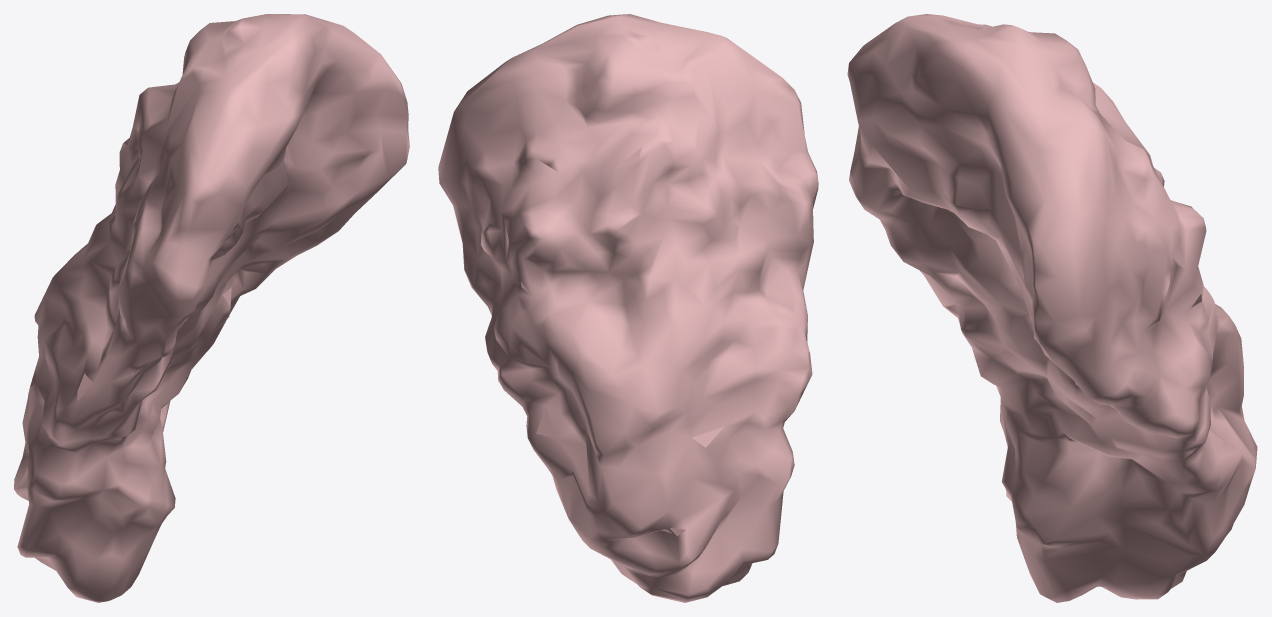
File: 3d-vh-m-palatine-tonsil-r.glb
3 renders of one model, left to right at view 1: azimuth 30°, elevation 25°; view 2: azimuth 150°, elevation 25°; view 3: azimuth 270°, elevation 25°, orthographic. The views are drawn at different scales.
Parts seen in each view (by area): view 1: VH_M_palatine_tonsil_R; view 2: VH_M_palatine_tonsil_R; view 3: VH_M_palatine_tonsil_R.
Part boxes in pixels (box(x1,y1,x2,y2)): VH_M_palatine_tonsil_R: box(14, 14, 409, 602); VH_M_palatine_tonsil_R: box(438, 14, 818, 602); VH_M_palatine_tonsil_R: box(847, 14, 1257, 602).
Bounding box in the file's own units: 0.0168 × 0.0239 × 0.0139.
